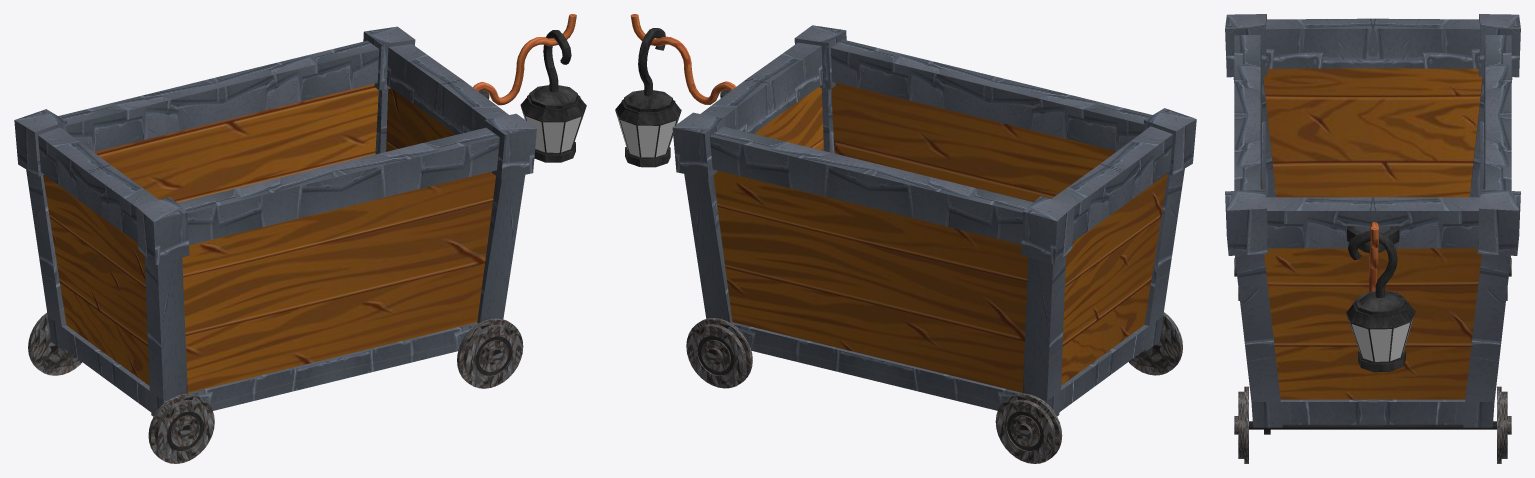
File: MineCart.fbx
The picture shows the model from 3 angles, left to right: view 1: azimuth 30°, elevation 25°; view 2: azimuth 150°, elevation 25°; view 3: azimuth 270°, elevation 25°; orthographic projection. The views are drawn at different scales.
Parts seen in each view (by area): view 1: Cart; view 2: Cart; view 3: Cart.
Part boxes in pixels (x1,y1,x2,y2): Cart: (14,14,586,463); Cart: (615,14,1196,463); Cart: (1225,14,1520,463).
Bounding box in the file's own units: 524 × 292 × 256.
